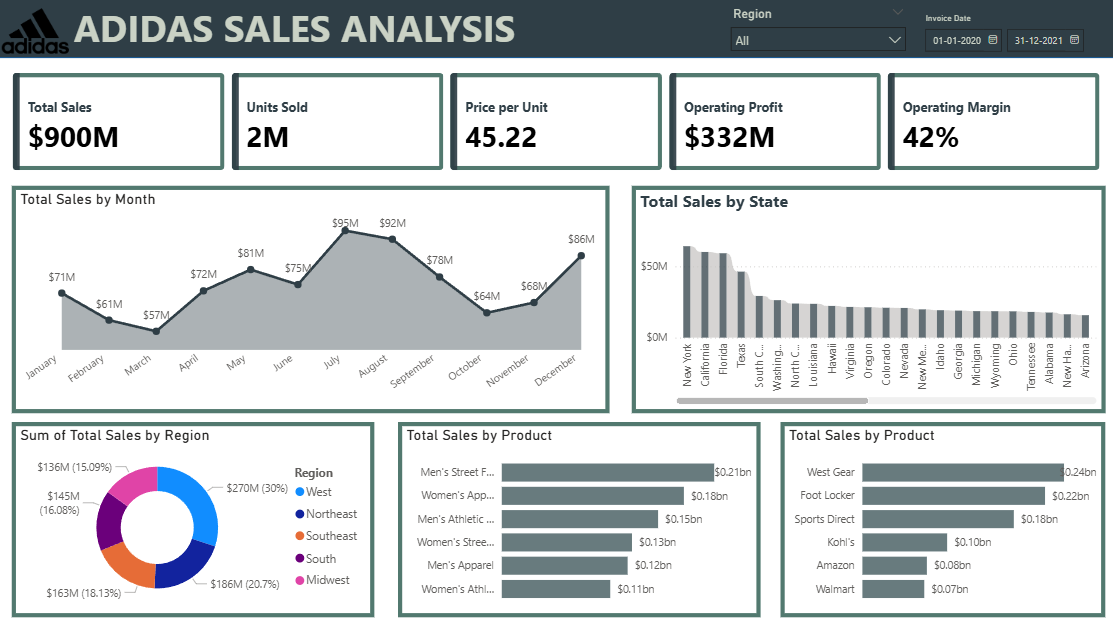

The dashboard page shown, as its layout file describes it:
{"tool":"powerbi","page":{"name":"Page 1","canvas":[1280,720],"ordinal":0},"visuals":[{"type":"shape","box":[0,0,1280,70],"z":0},{"type":"textbox","box":[80.9,0,583.4,74.6],"z":1000},{"type":"cardVisual","fields":{"Data":["Sum(Data Sales Adidas.Total Sales)","Sum(Data Sales Adidas.Units Sold)","Avg(Data Sales Adidas.Price per Unit)","Sum(Data Sales Adidas.Operating Profit)","Avg(Data Sales Adidas.Operating Margin)"]},"box":[0,70,1280,145.7],"z":2000},{"type":"areaChart","title":"Total Sales by Month","fields":{"Y":["Sum(Data Sales Adidas.Total Sales)"],"Category":["Data Sales Adidas.Invoice Date.Variation.Date Hierarchy.Month"]},"box":[15.7,215.7,682.9,260],"z":3000},{"type":"ribbonChart","title":"Total Sales by State","fields":{"Category":["Data Sales Adidas.State"],"Y":["Sum(Data Sales Adidas.Total Sales)"]},"box":[724.3,215.7,541.4,260],"z":4000},{"type":"donutChart","fields":{"Y":["Sum(Data Sales Adidas.Total Sales)"],"Category":["Data Sales Adidas.Region"]},"box":[15.7,485.7,414.3,222.9],"z":5000},{"type":"barChart","title":"Total Sales by Product","fields":{"Y":["Sum(Data Sales Adidas.Total Sales)"],"Category":["Data Sales Adidas.Product"]},"box":[457.1,485.7,414.3,222.9],"z":6000},{"type":"barChart","title":"Total Sales by Product","fields":{"Category":["Data Sales Adidas.Retailer"],"Y":["Sum(Data Sales Adidas.Total Sales)"]},"box":[894.3,485.7,371.4,222.9],"z":6001},{"type":"slicer","fields":{"Values":["Data Sales Adidas.Region"]},"box":[827.2,6.2,220.2,57.2],"z":6002},{"type":"slicer","fields":{"Values":["Data Sales Adidas.Invoice Date"]},"box":[1047.4,14.9,232.6,62.2],"z":6003},{"type":"image","box":[3.7,0,77.1,77.1],"z":6004}]}

Visuals, with their boxes in screenshot pixels (x1, y1, x2, y2), scaled from the page's 1280x720 canvas onto the 1113x621 screenshot:
shape: bbox(0, 0, 1112, 60)
textbox: bbox(70, 0, 578, 64)
cardVisual - Sum(Data Sales Adidas.Total Sales) x Sum(Data Sales Adidas.Units Sold): bbox(0, 60, 1112, 186)
"Total Sales by Month" areaChart: bbox(14, 186, 607, 410)
"Total Sales by State" ribbonChart: bbox(630, 186, 1101, 410)
donutChart - Sum(Data Sales Adidas.Total Sales) x Data Sales Adidas.Region: bbox(14, 419, 374, 611)
"Total Sales by Product" barChart: bbox(397, 419, 758, 611)
"Total Sales by Product" barChart: bbox(778, 419, 1101, 611)
slicer - Data Sales Adidas.Region: bbox(719, 5, 911, 55)
slicer - Data Sales Adidas.Invoice Date: bbox(911, 13, 1112, 66)
image: bbox(3, 0, 70, 66)
